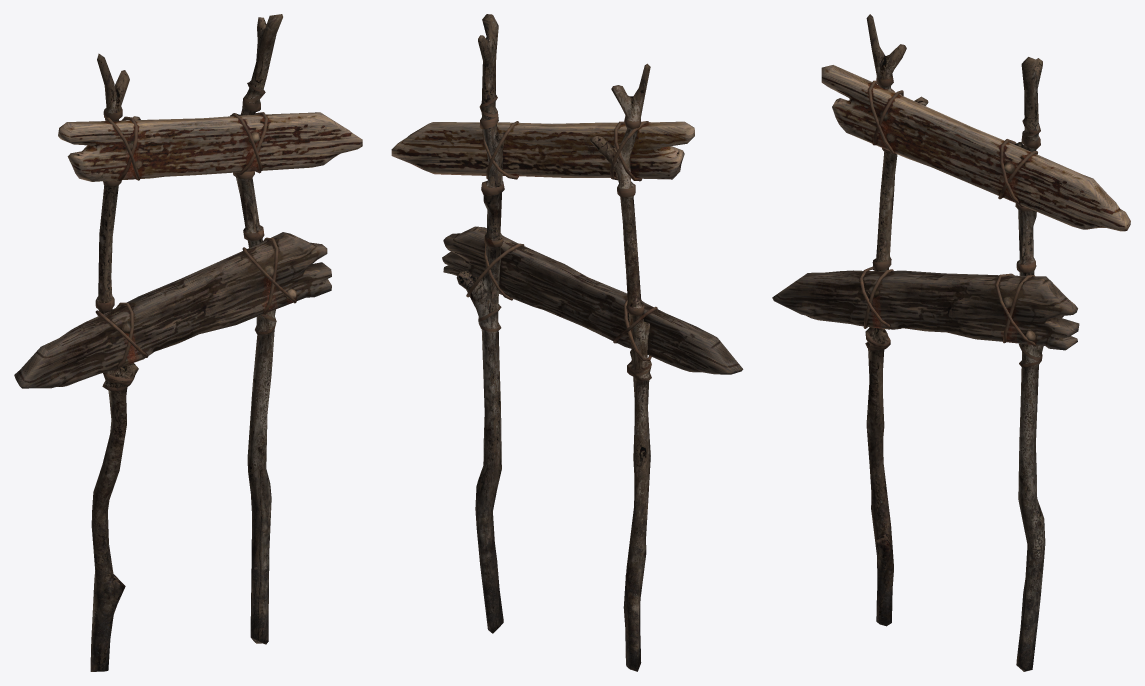
Rendered from P_Circus_RoadSign01.FBX.
3 renders of one model, left to right at view 1: azimuth 30°, elevation 25°; view 2: azimuth 150°, elevation 25°; view 3: azimuth 330°, elevation 25°, orthographic. The views are drawn at different scales.
Parts seen in each view (by area): view 1: P_Circus_RoadSign01; view 2: P_Circus_RoadSign01; view 3: P_Circus_RoadSign01.
Part boxes in pixels (box(x1,y1,x2,y2)): P_Circus_RoadSign01: box(14, 14, 362, 671); P_Circus_RoadSign01: box(391, 14, 743, 671); P_Circus_RoadSign01: box(772, 14, 1130, 671).
Size of the model in its own units: 154 by 264 by 24.87.
